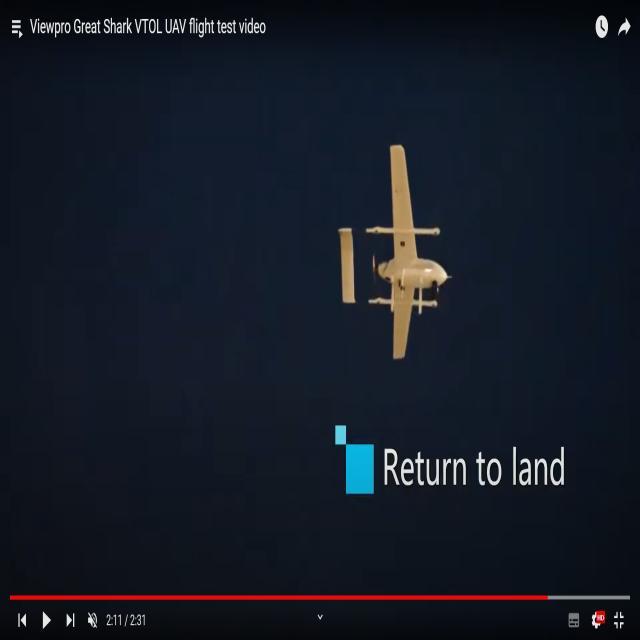iha: (362, 144, 414, 359)
